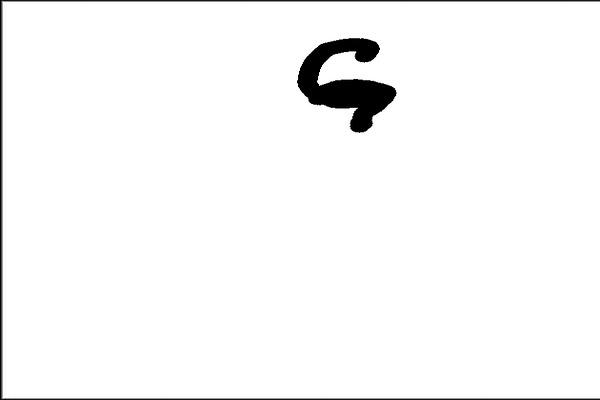G: (292, 35, 397, 135)
